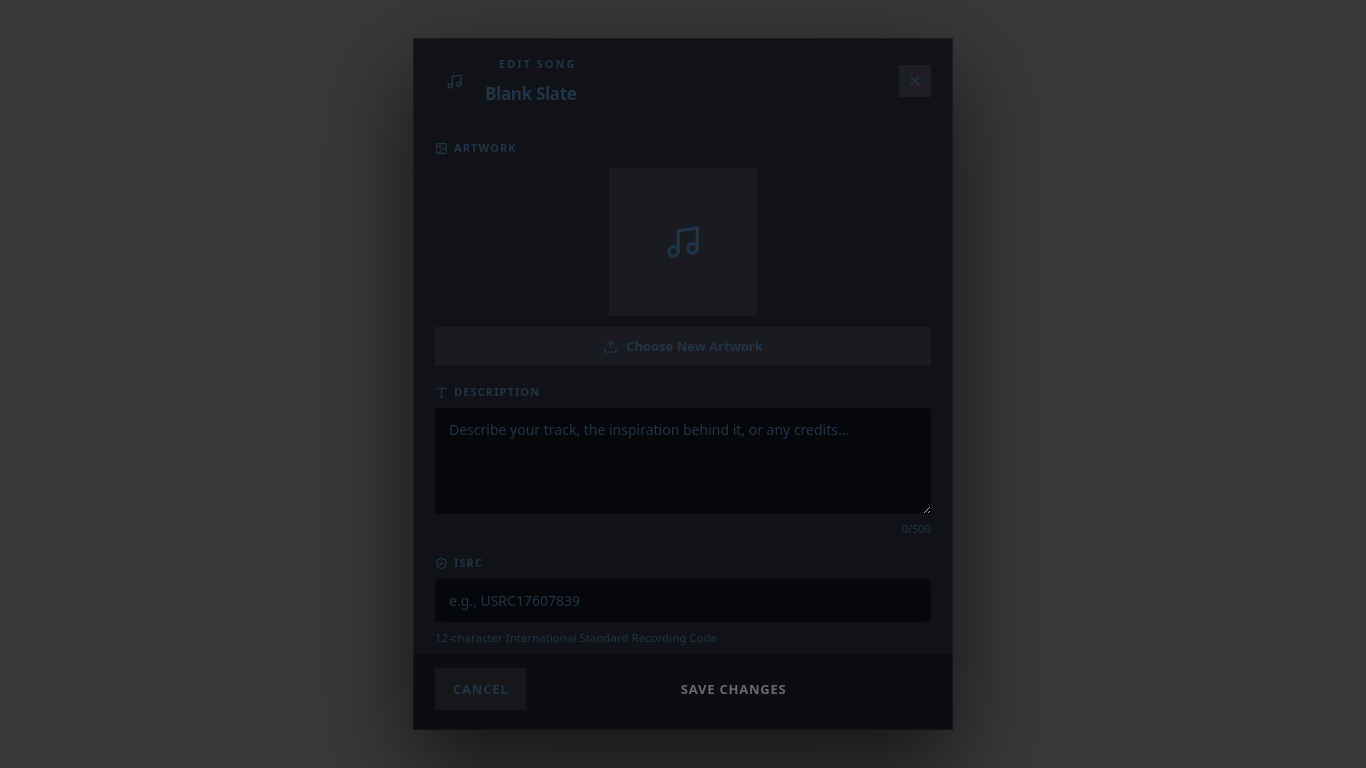
Test: EditSongWizard — ISRC › uppercases input and strips non-alphanumeric characters
In the field with placeholder "e.g., USRC17607839": (683, 600) [435, 579, 931, 622], type "us-rc176-07839"
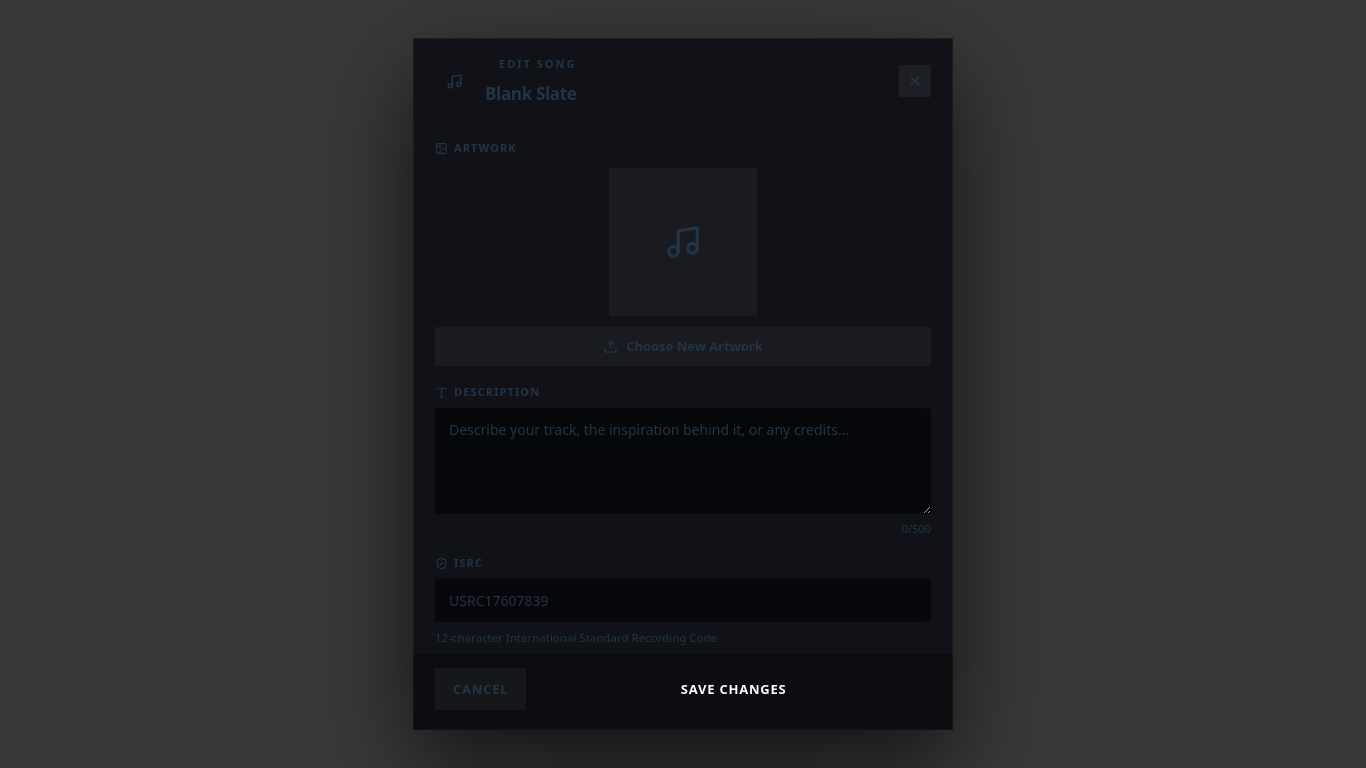
Now the field with placeholder "e.g., USRC17607839" holds "USRC17607839", box [435, 579, 931, 622]
